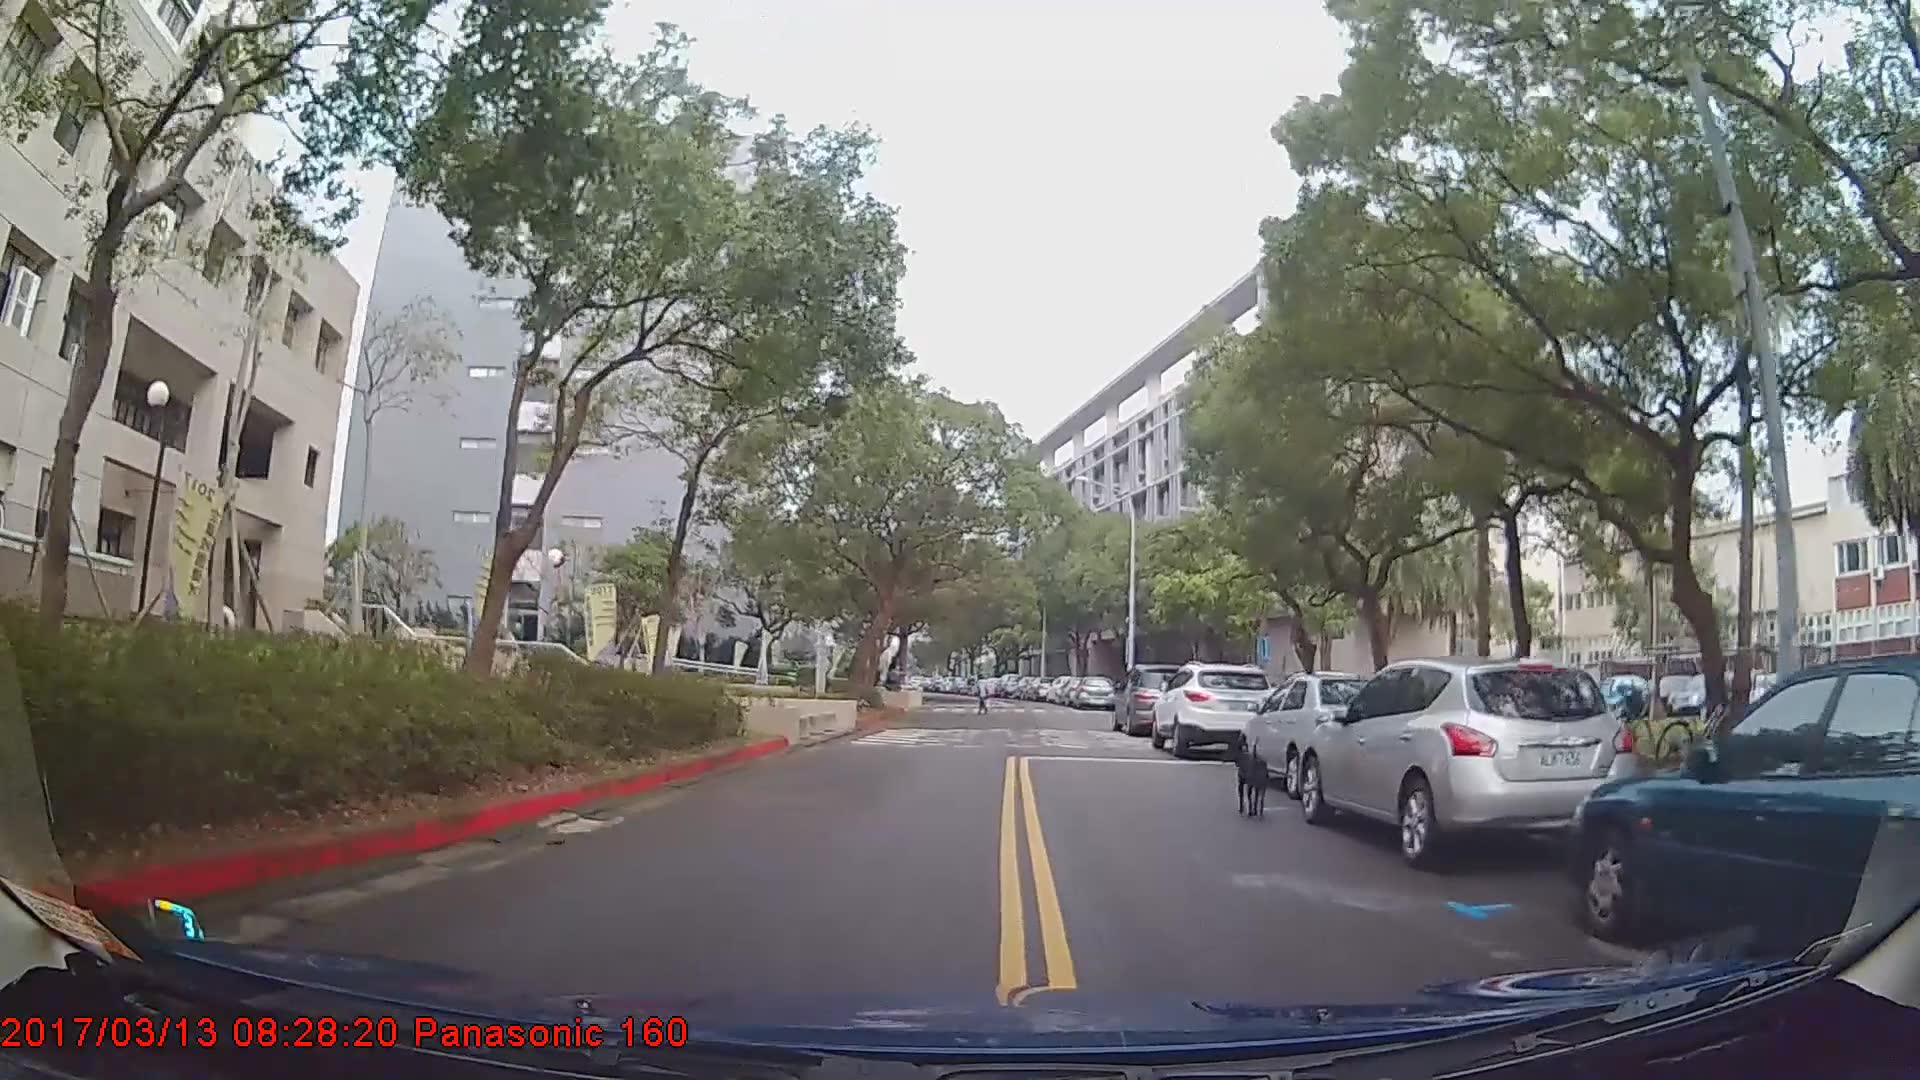pedestrian: (973, 676, 993, 716)
vehicle: (1570, 655, 1920, 966), (1305, 659, 1643, 868), (1236, 673, 1411, 803), (1152, 664, 1279, 761), (1110, 664, 1206, 736), (1073, 675, 1114, 711), (994, 671, 1021, 699)
